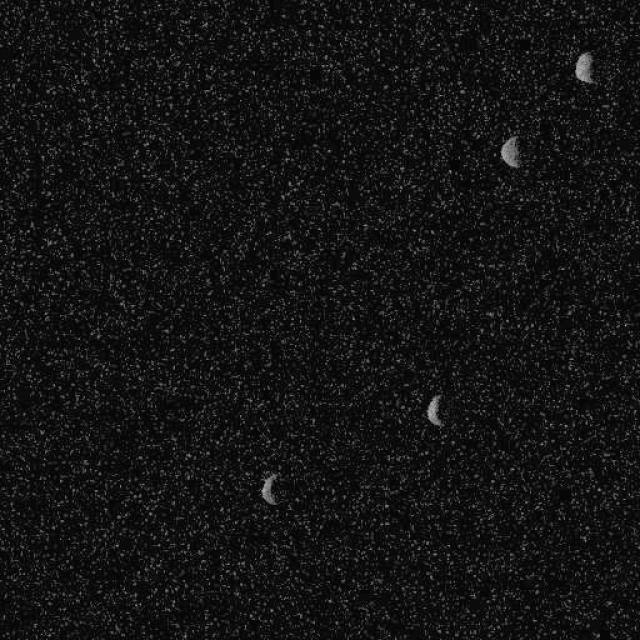D2: (499, 134, 521, 168), (574, 50, 595, 84), (425, 392, 444, 427), (260, 471, 279, 505)
